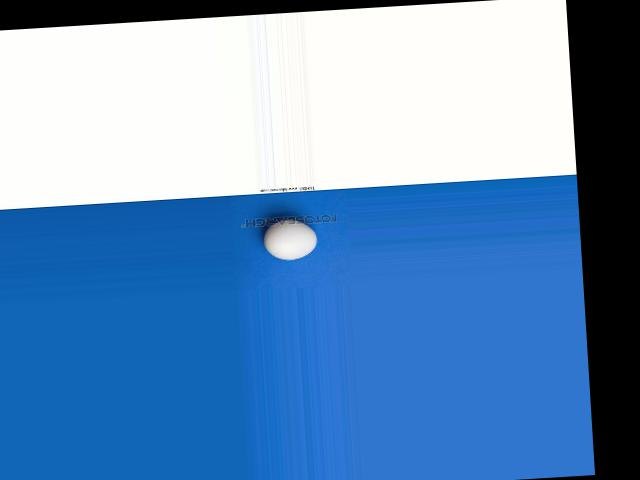egg: (262, 216, 317, 260)
